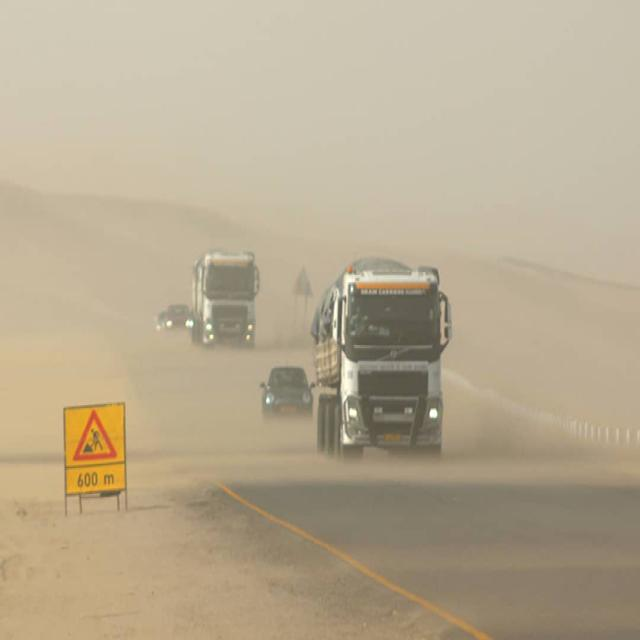bus: (315, 252, 452, 470), (188, 248, 258, 348)
car: (261, 365, 311, 415), (167, 302, 192, 334), (153, 308, 167, 331)
